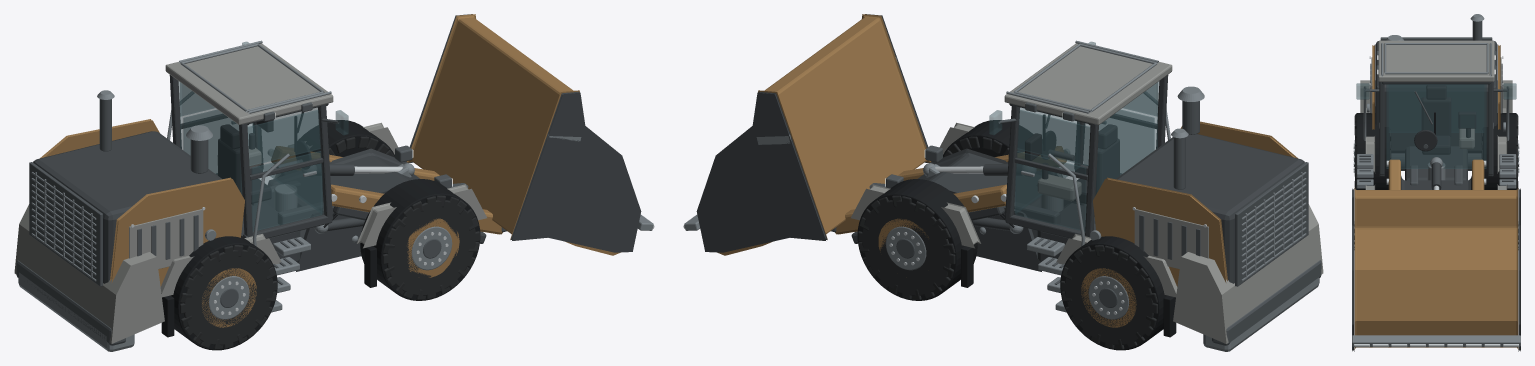
File: komatsu-wa475-10-structural-study.glb
3 views of the same model, side by side, from view 1: azimuth 30°, elevation 25°; view 2: azimuth 150°, elevation 25°; view 3: azimuth 270°, elevation 25° (orthographic). The views are drawn at different scales.
Visible parts, largest first — view 1: StockPileBucket_Shell, BucketSideGuard_L, EngineCompartment_Core, RearCounterweight_Mass, ROPS_Roof, EngineHoodSidePanel_L, FrontFrame_Main, RearSidewallOuter_L, FrontSidewallOuter_L, CabSideGlassLower_L, Cab_FrontGlass, RearCoolingMask (+30 smaller); view 2: StockPileBucket_Shell, BucketSideGuard_R, EngineCompartment_Core, RearCounterweight_Mass, ROPS_Roof, EngineHoodSidePanel_R, FrontFrame_Main, RearSidewallOuter_R, FrontSidewallOuter_R, CabSideGlassLower_R, Cab_RearGlass, RearCoolingMask (+29 smaller); view 3: StockPileBucket_Shell, Cab_FrontGlass, EngineCompartment_Core, ROPS_Roof, Cab_RearGlass, BucketBoltOnCuttingEdge, RearTire_L, RearTire_R, RearFrame_Spine, OperatorSeat_Back, RearCounterweight_Mass, FrontFrame_Main (+33 smaller).
Boxes of the visible parts, x1,y1,x2,y2 form: StockPileBucket_Shell: (406, 14, 620, 255); BucketSideGuard_L: (510, 91, 641, 252); EngineCompartment_Core: (33, 131, 222, 283); RearCounterweight_Mass: (14, 204, 164, 343); ROPS_Roof: (165, 43, 333, 124); EngineHoodSidePanel_L: (110, 177, 244, 286); FrontFrame_Main: (268, 148, 419, 271); RearSidewallOuter_L: (184, 249, 272, 345); FrontSidewallOuter_L: (386, 200, 475, 295); CabSideGlassLower_L: (251, 151, 322, 231); Cab_FrontGlass: (258, 107, 323, 213); RearCoolingMask: (29, 162, 102, 286); StockPileBucket_Shell: (717, 14, 931, 255); BucketSideGuard_R: (696, 91, 827, 252); EngineCompartment_Core: (1115, 134, 1304, 283); RearCounterweight_Mass: (1173, 204, 1323, 343); ROPS_Roof: (1004, 43, 1172, 124); EngineHoodSidePanel_R: (1093, 177, 1227, 286); FrontFrame_Main: (918, 148, 1041, 271); RearSidewallOuter_R: (1065, 249, 1153, 345); FrontSidewallOuter_R: (862, 200, 951, 295); CabSideGlassLower_R: (1015, 151, 1086, 231); Cab_RearGlass: (1095, 82, 1157, 223); RearCoolingMask: (1235, 162, 1308, 286); StockPileBucket_Shell: (1354, 187, 1518, 349); Cab_FrontGlass: (1386, 84, 1486, 168); EngineCompartment_Core: (1375, 40, 1497, 153); ROPS_Roof: (1378, 40, 1494, 81); Cab_RearGlass: (1389, 84, 1483, 132); BucketBoltOnCuttingEdge: (1352, 335, 1520, 346); RearTire_L: (1356, 113, 1389, 189); RearTire_R: (1483, 113, 1516, 189); RearFrame_Spine: (1405, 146, 1467, 180); OperatorSeat_Back: (1421, 97, 1451, 136); RearCounterweight_Mass: (1360, 80, 1512, 112); FrontFrame_Main: (1401, 176, 1471, 189).
Bounding box in the file's own units: 9.18 × 3.53 × 3.17.
